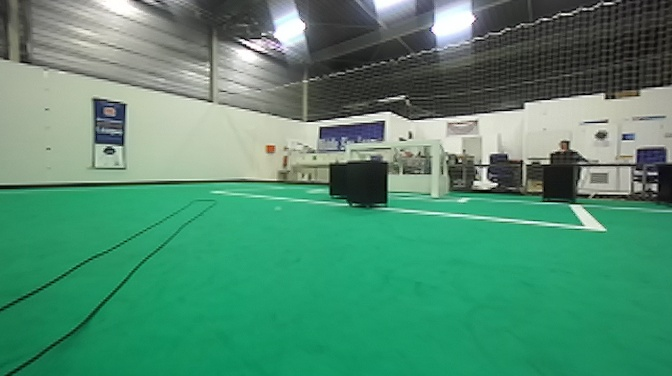goalpost: (429, 139, 445, 196), (340, 143, 361, 158)
